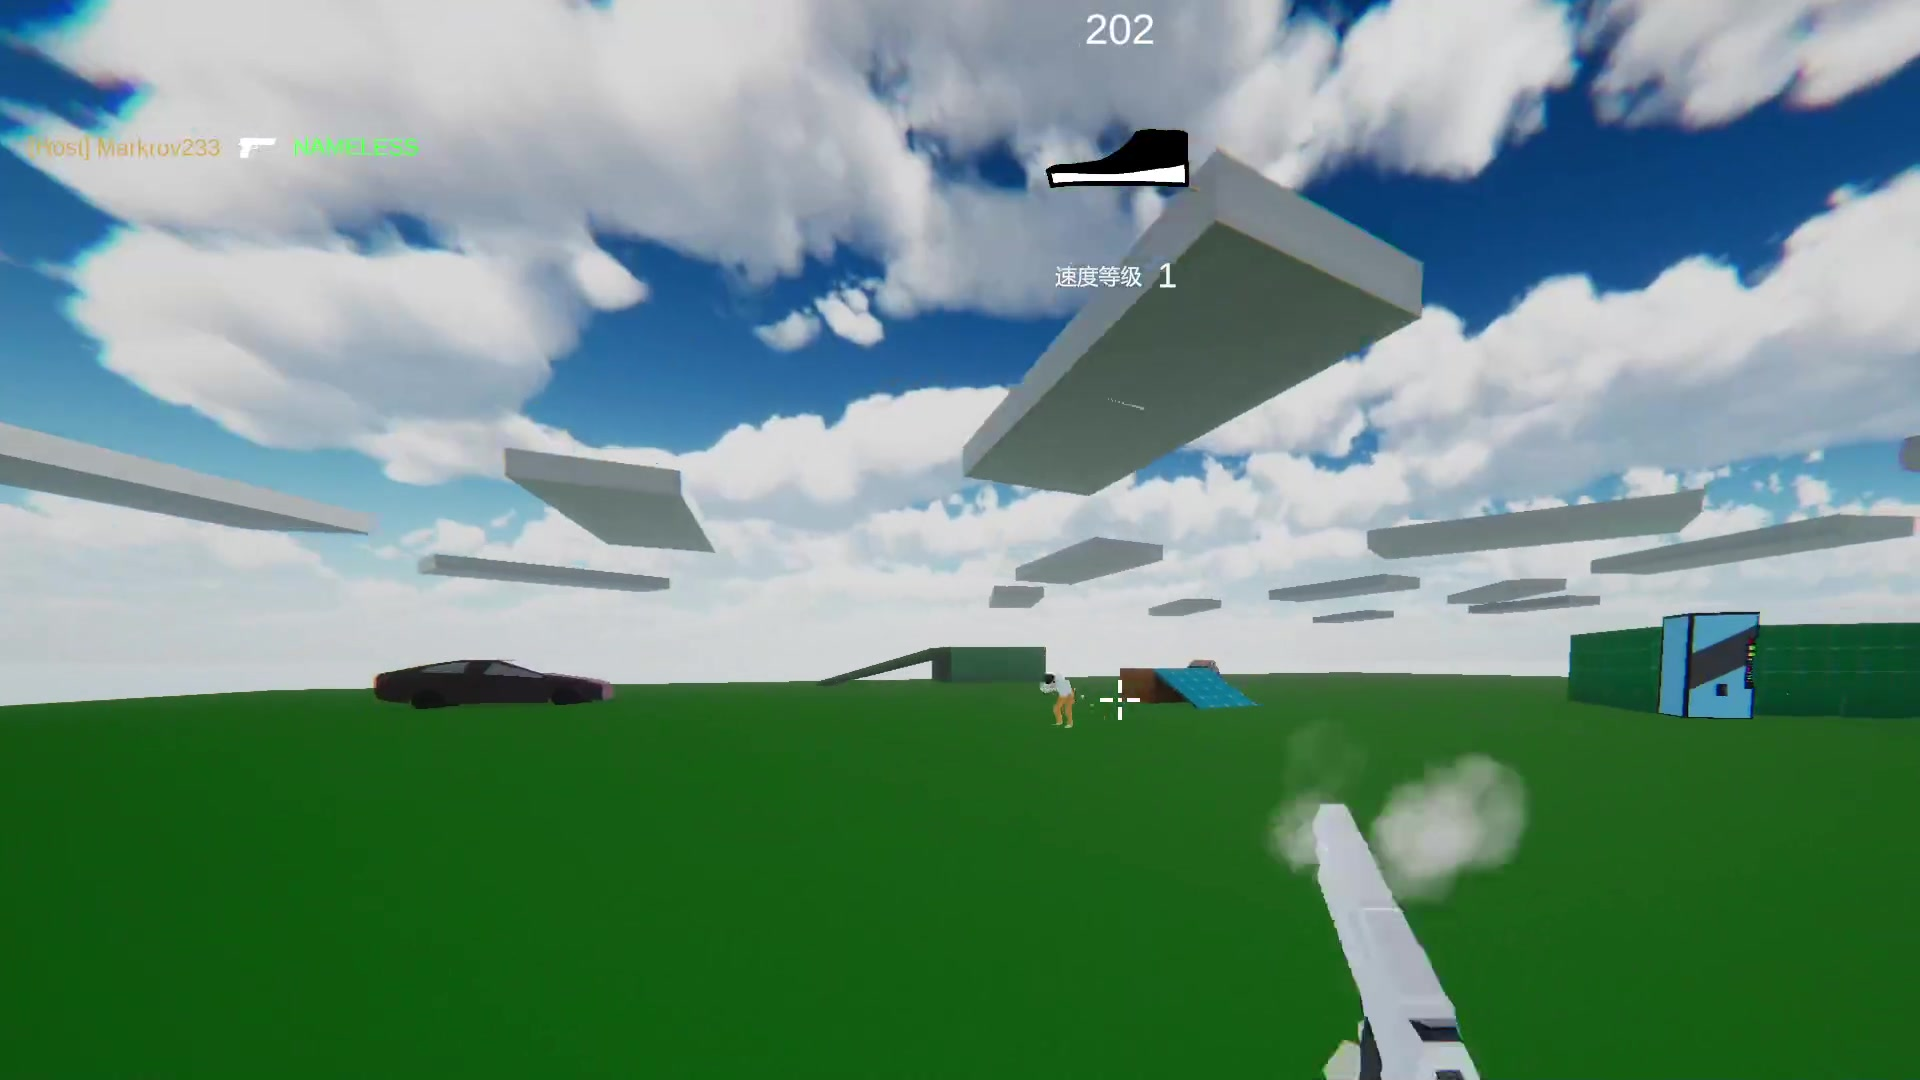human: (1041, 668, 1080, 736)
